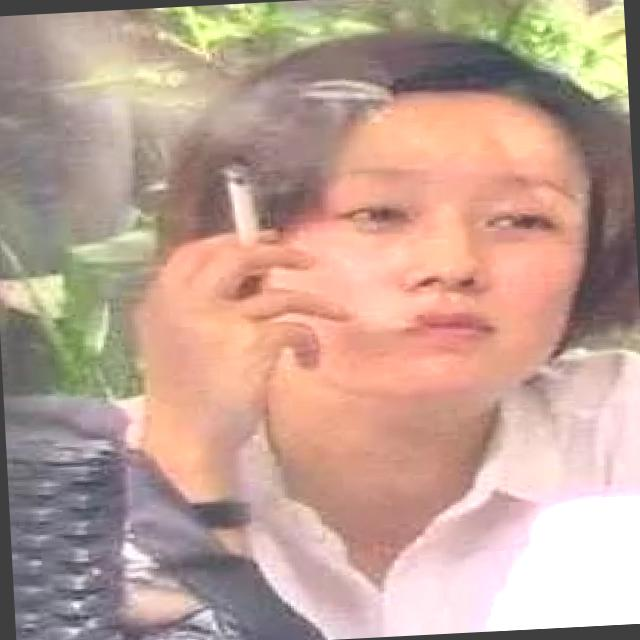cigarette: (206, 162, 270, 254)
